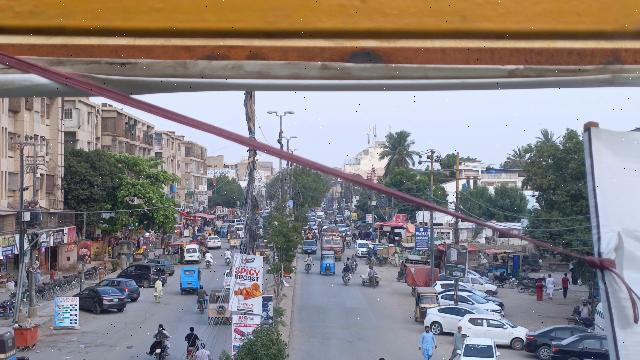Bike: (183, 344, 199, 360), (152, 341, 165, 360), (195, 299, 207, 316), (342, 270, 351, 288), (303, 261, 313, 277), (223, 256, 232, 268), (204, 259, 212, 269)
Car: (459, 313, 528, 349), (523, 324, 588, 357), (548, 331, 607, 360), (424, 304, 475, 336), (72, 285, 126, 315), (439, 291, 503, 314), (116, 264, 168, 288), (95, 276, 142, 302), (456, 336, 501, 360)
Cart: (359, 264, 383, 288)
Person: (414, 324, 437, 360), (449, 325, 464, 360), (558, 271, 573, 301), (151, 275, 165, 306), (151, 321, 169, 344), (183, 323, 200, 345), (545, 273, 557, 301), (195, 284, 209, 299), (96, 264, 108, 281), (341, 261, 354, 274), (368, 265, 378, 277), (304, 253, 313, 265), (204, 250, 213, 262), (223, 247, 232, 259)
Rickshaw: (412, 284, 438, 324), (206, 287, 234, 323), (178, 266, 201, 296), (318, 249, 337, 277)
